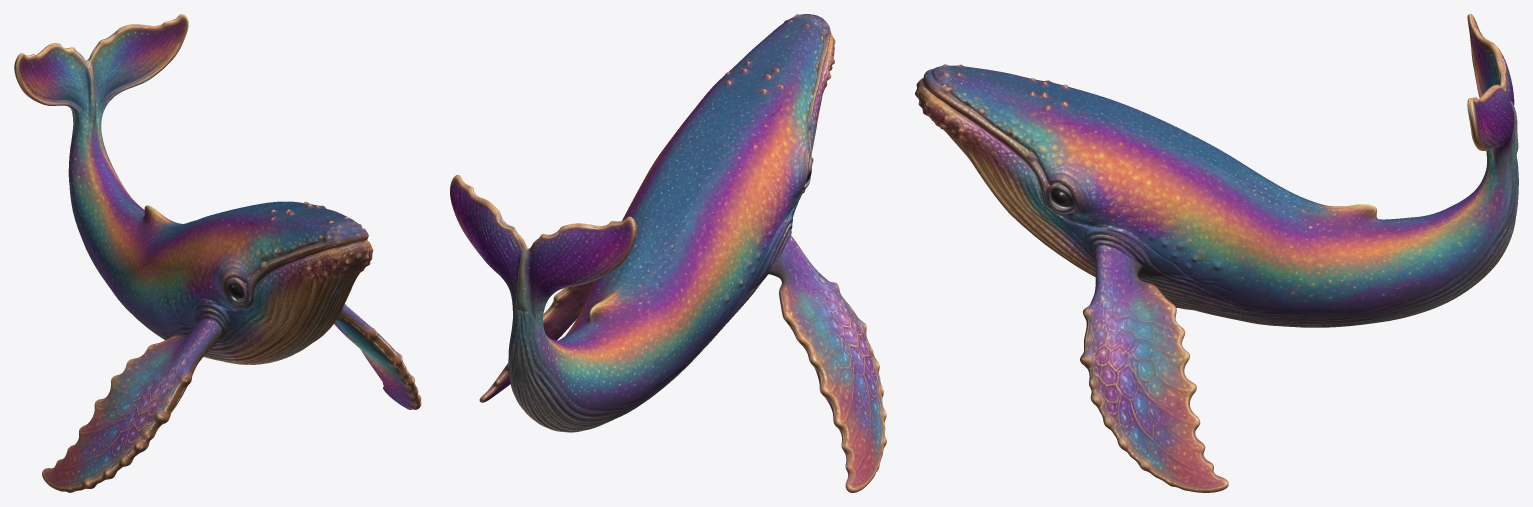
Rendered from Meshy_AI_Prismatic_Whale_1017095007_texture.fbx.
The picture shows the model from 3 angles, left to right: view 1: azimuth 30°, elevation 25°; view 2: azimuth 150°, elevation 25°; view 3: azimuth 270°, elevation 25°; orthographic projection. The views are drawn at different scales.
Visible parts, largest first — view 1: Mesh_0; view 2: Mesh_0; view 3: Mesh_0.
Part boxes in pixels (x1,y1,x2,y2): Mesh_0: [14, 14, 421, 492]; Mesh_0: [450, 14, 886, 492]; Mesh_0: [915, 14, 1518, 492].
Bounding box in the file's own units: 137 × 120 × 190.
1 material, 1 textured.
